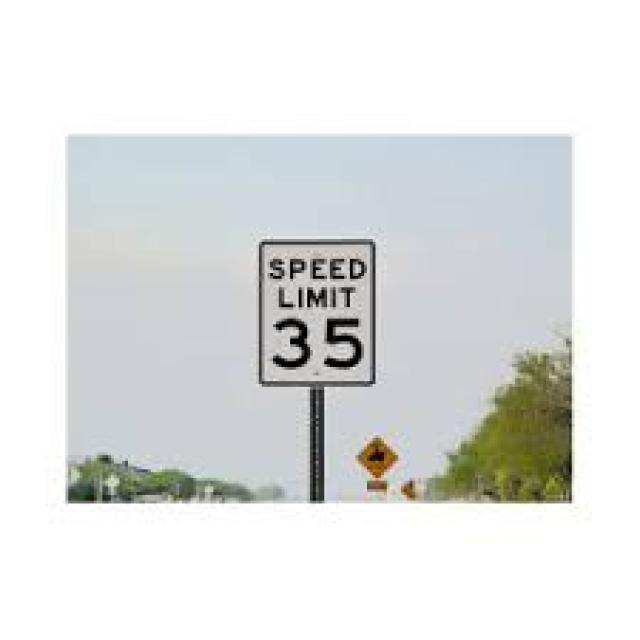speedLimit35: (252, 233, 382, 398)
